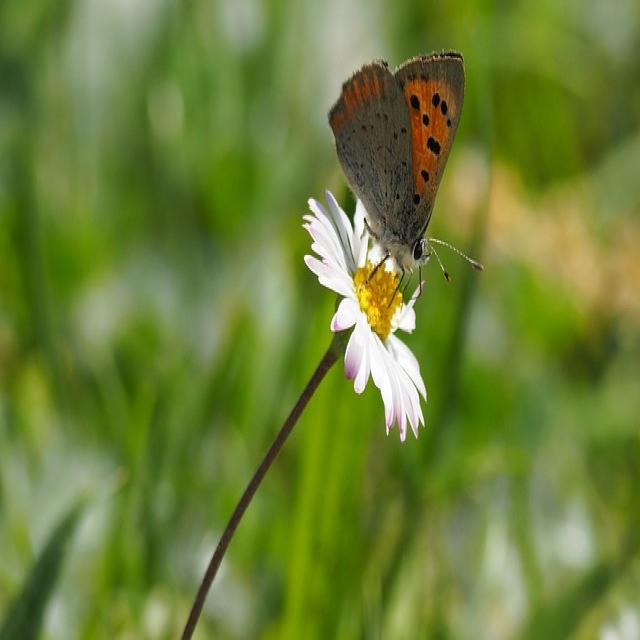butterfly: (328, 51, 466, 279)
